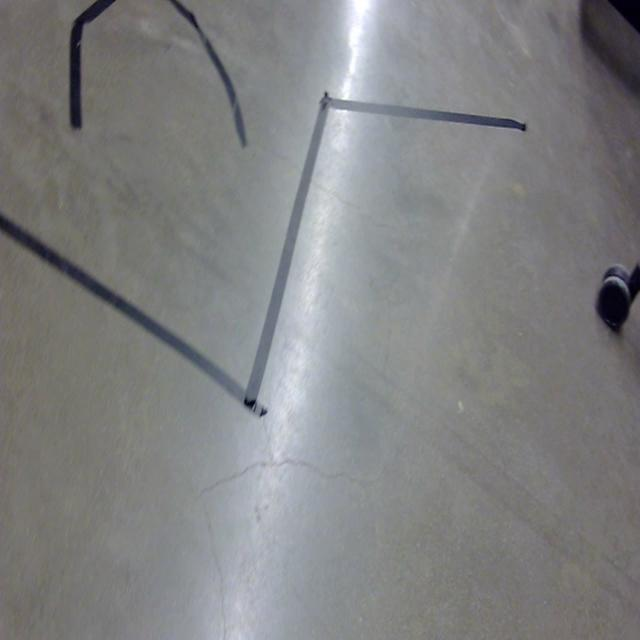tape: (0, 97, 528, 419), (174, 1, 249, 146), (68, 0, 121, 132)
